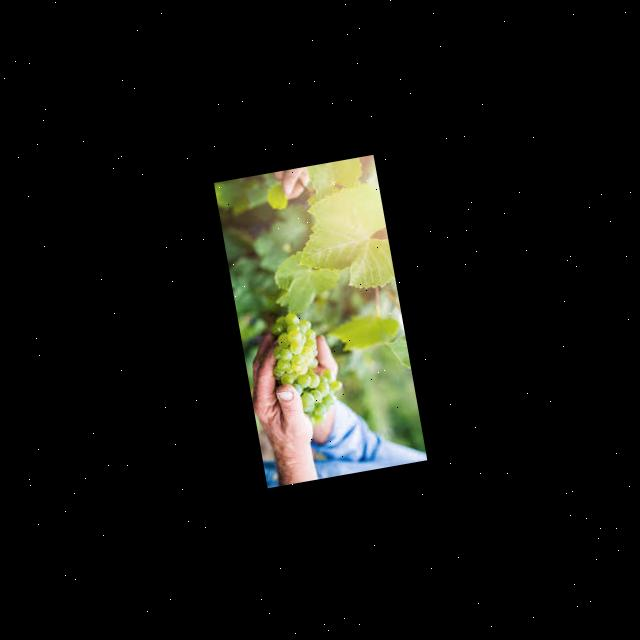grape: (264, 304, 348, 429)
